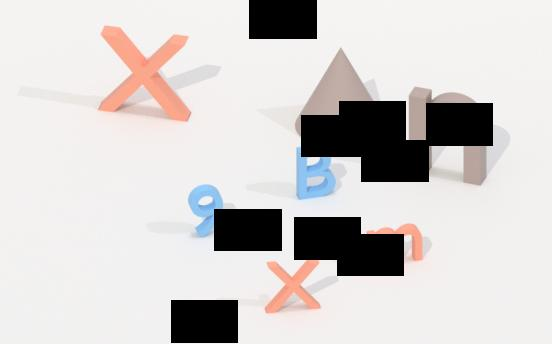9: (187, 182, 225, 240)
b: (292, 141, 343, 201)
m: (364, 220, 426, 271)
n: (406, 82, 491, 190)
non: (292, 42, 388, 151)
x: (97, 21, 194, 130), (260, 255, 325, 318)
